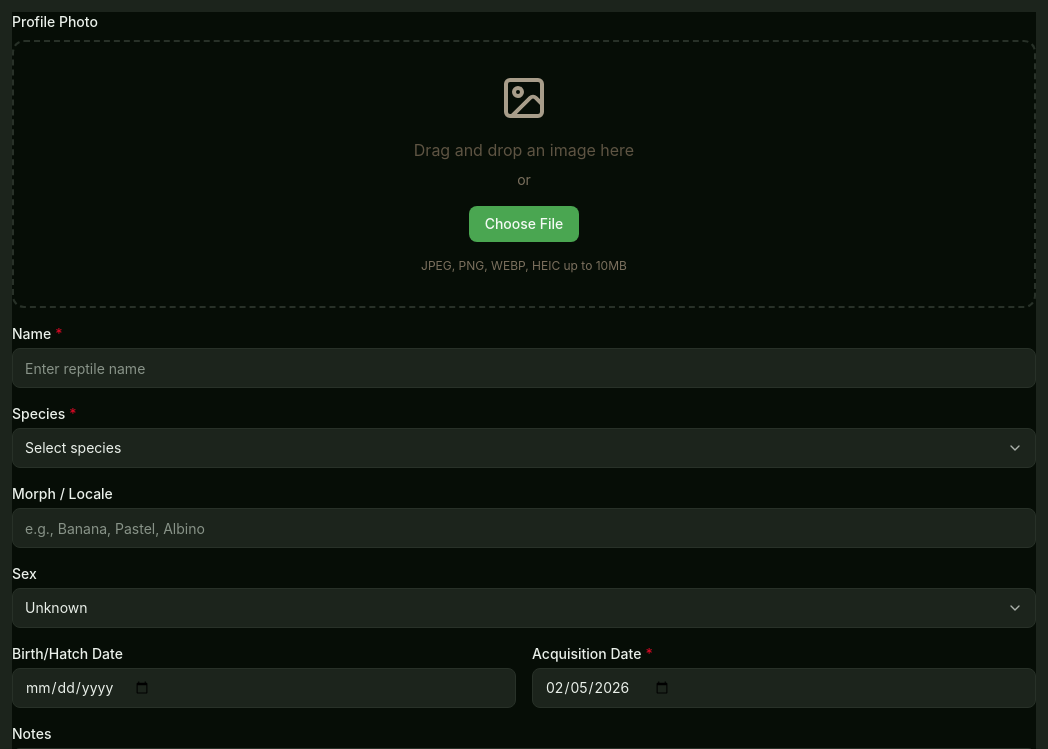
ReptileForm › species selection › should display species options in dropdown
The width and height of the screenshot is (1048, 749).
Open species dropdown
What coordinates should you click on to do the following:
click the dropdown labelled "Select species"
I would click on:
 (73, 448)
Its box is [12,428,1036,468].
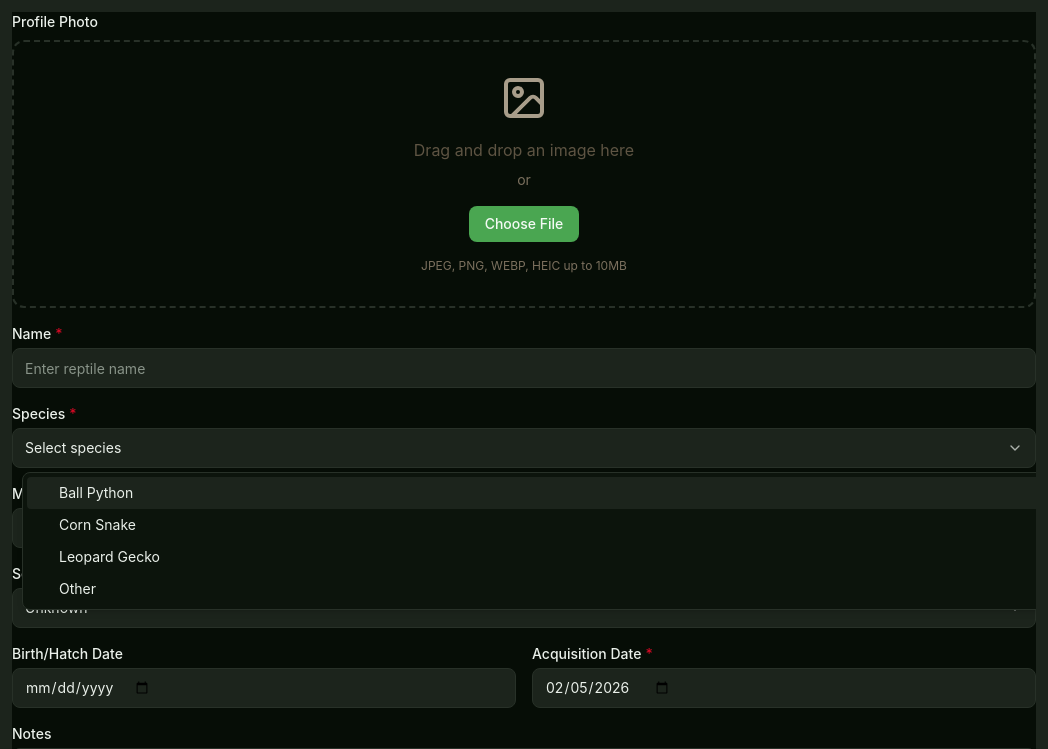
Expected: the option "Corn Snake" is shown, [59,516,136,533]
Expected: the option "Leopard Gecko" is shown, [59,548,160,565]
Expected: the option "Other" is shown, [59,580,96,597]
